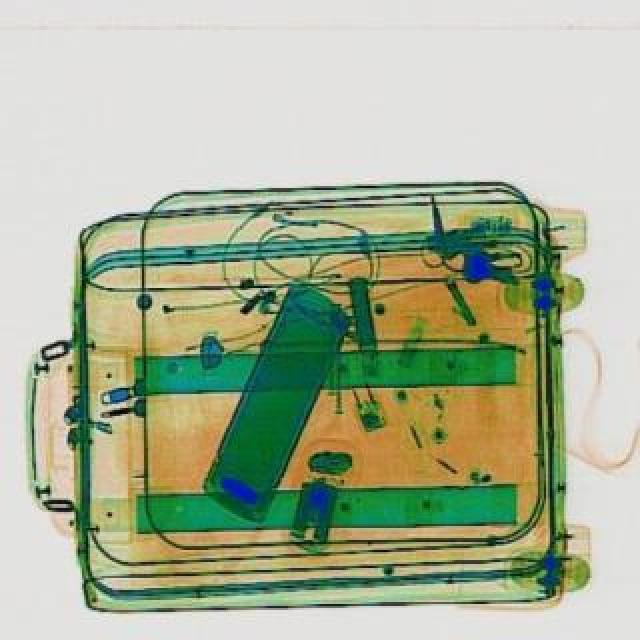pliers: (408, 192, 468, 274)
